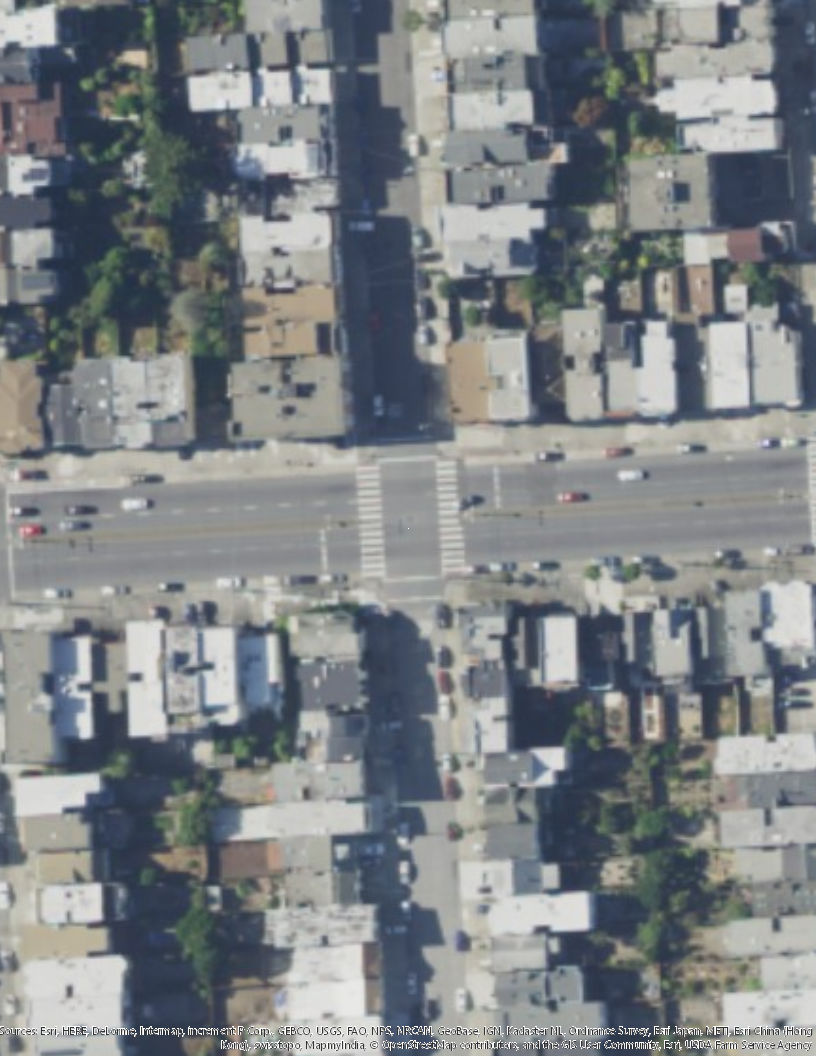zebracross: (434, 461, 470, 577), (353, 465, 387, 577)
